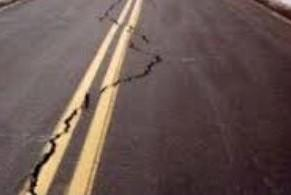pothole: (22, 98, 78, 195), (102, 0, 158, 62), (85, 56, 171, 95), (67, 85, 123, 121)
